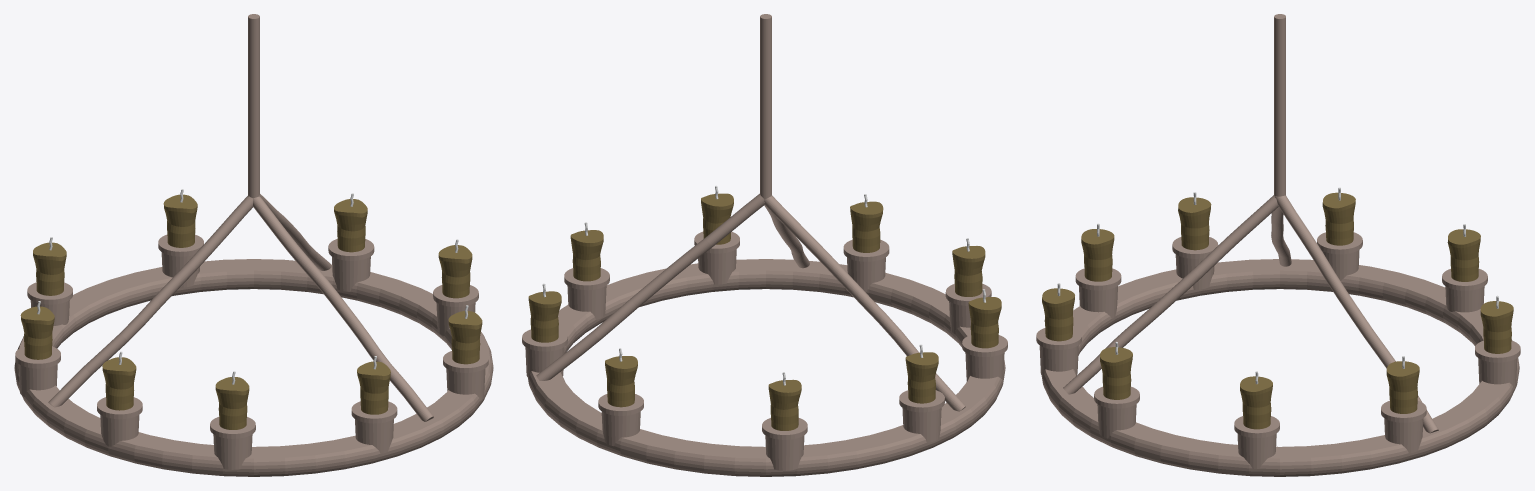
The model's file is люстра.fbx.
The picture shows the model from 3 angles, left to right: view 1: azimuth 30°, elevation 25°; view 2: azimuth 150°, elevation 25°; view 3: azimuth 270°, elevation 25°; orthographic projection.
Visible parts, largest first — view 1: люстра осн.001, цепь.001, подставка.002, подставка.009, подставка.001, свеча.001, свеча.008, свеча.003, свеча.004, свеча.007, свеча.009, свеча.006 (+8 smaller); view 2: люстра осн.001, цепь.001, подставка.005, подставка.004, подставка.008, подставка.006, свеча.001, свеча.009, свеча.002, свеча.008, свеча.005, свеча.003 (+8 smaller); view 3: люстра осн.001, цепь.001, подставка.008, подставка.009, подставка.007, свеча.002, свеча.006, свеча.009, свеча.004, свеча.008, свеча.007, свеча.001 (+8 smaller).
Part boxes in pixels (x1,y1,x2,y2): люстра осн.001: (14,259,493,476); цепь.001: (48,14,433,421); подставка.002: (210,417,255,469); подставка.009: (328,239,374,291); подставка.001: (351,401,397,453); свеча.001: (357,361,390,414); свеча.008: (438,245,472,298); свеча.003: (102,357,136,410); свеча.004: (20,306,54,359); свеча.007: (448,311,482,364); свеча.009: (334,199,367,252); свеча.006: (163,194,197,247); люстра осн.001: (528,259,1005,476); цепь.001: (536,14,965,411); подставка.005: (762,418,807,470); подставка.004: (899,390,944,442); подставка.008: (564,268,609,319); подставка.006: (598,394,643,446); свеча.001: (850,201,883,252); свеча.009: (528,291,561,342); свеча.002: (952,246,985,296); свеча.008: (570,230,603,281); свеча.005: (768,379,801,430); свеча.003: (968,297,1001,348); люстра осн.001: (1041,259,1519,476); цепь.001: (1063,14,1438,433); подставка.008: (1234,416,1279,468); подставка.009: (1381,400,1426,453); подставка.007: (1094,386,1139,438); свеча.002: (1081,229,1114,281); свеча.006: (1480,301,1513,353); свеча.009: (1386,361,1419,413); свеча.004: (1322,192,1355,245); свеча.008: (1240,376,1272,429); свеча.007: (1100,347,1132,399); свеча.001: (1042,288,1074,341).
Size of the model in its own units: 701 by 578 by 704.
